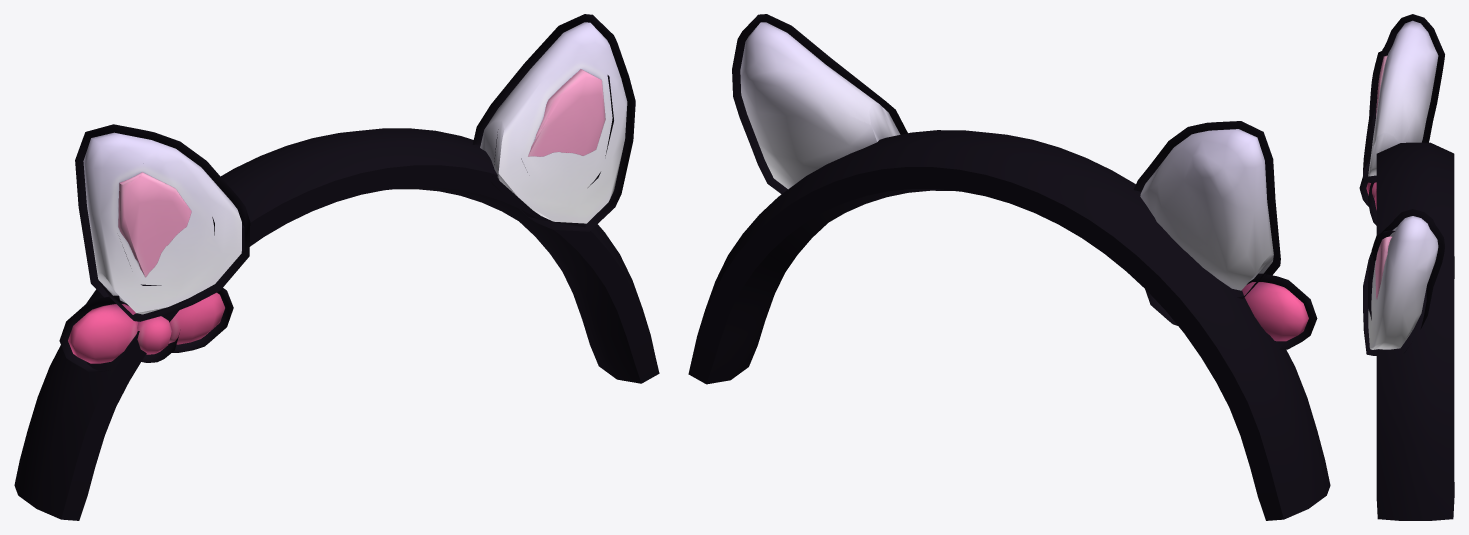
Rendered from CatEarsHeadband.fbx.
3 renders of one model, left to right at view 1: azimuth 30°, elevation 25°; view 2: azimuth 150°, elevation 25°; view 3: azimuth 270°, elevation 25°, orthographic. The views are drawn at different scales.
Parts seen in each view (by area): view 1: CatEarsHeadbandOutline, CatEarsHeadband; view 2: CatEarsHeadbandOutline, CatEarsHeadband; view 3: CatEarsHeadbandOutline, CatEarsHeadband.
Part boxes in pixels (x1,y1,x2,y2): CatEarsHeadbandOutline: (14, 14, 659, 520); CatEarsHeadband: (68, 22, 627, 363); CatEarsHeadbandOutline: (688, 14, 1330, 520); CatEarsHeadband: (740, 22, 1308, 341); CatEarsHeadbandOutline: (1359, 14, 1454, 520); CatEarsHeadband: (1366, 20, 1438, 349).
Size of the model in its own units: 135 by 77.04 by 22.19.
Materials: 2 (1 with a texture image).
